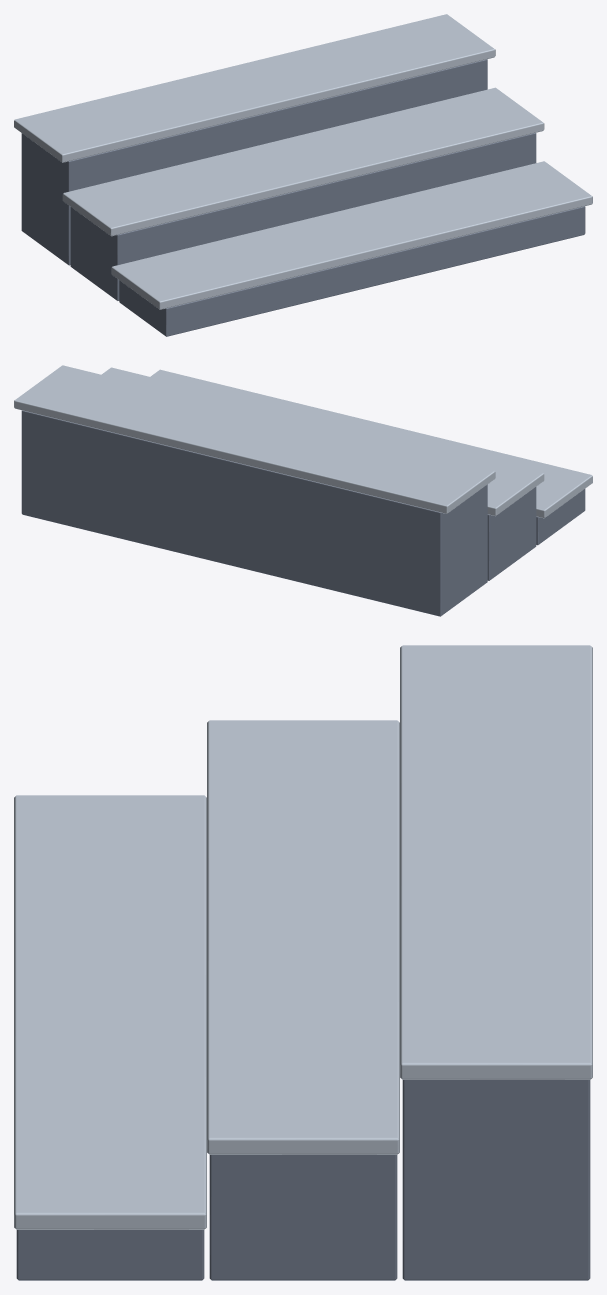
File: garden-steps-lite.glb
3 renders of one model, top to bottom at view 1: azimuth 30°, elevation 25°; view 2: azimuth 150°, elevation 25°; view 3: azimuth 270°, elevation 25°, orthographic. The views are drawn at different scales.
Parts seen in each view (by area): view 1: garden-steps; view 2: garden-steps; view 3: garden-steps.
Boxes of the visible parts, x1=… form: garden-steps: x1=14, y1=14, x2=592, y2=336; garden-steps: x1=14, y1=365, x2=592, y2=616; garden-steps: x1=14, y1=645, x2=592, y2=1280.
Size of the model in its own units: 1.8 by 0.45 by 1.05.
